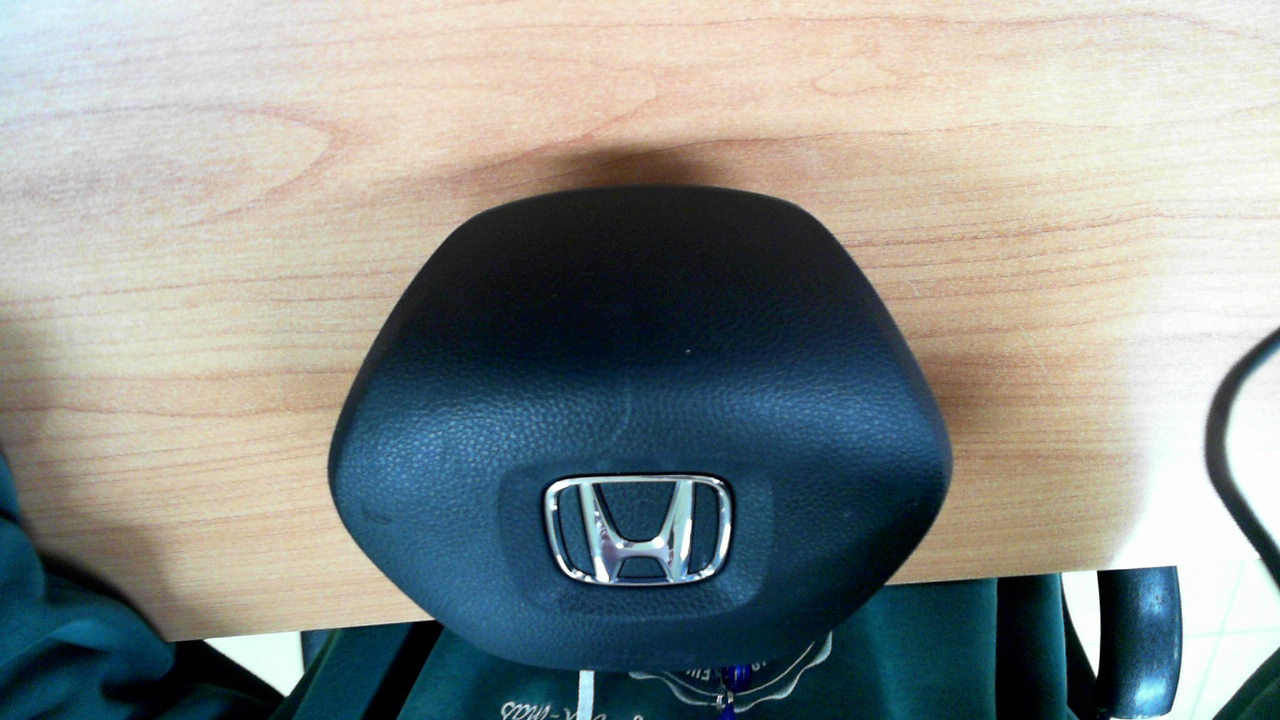Airbag: (326, 182, 955, 672)
Honda: (544, 474, 732, 587)
